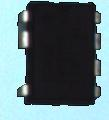IC: (19, 1, 101, 111)
